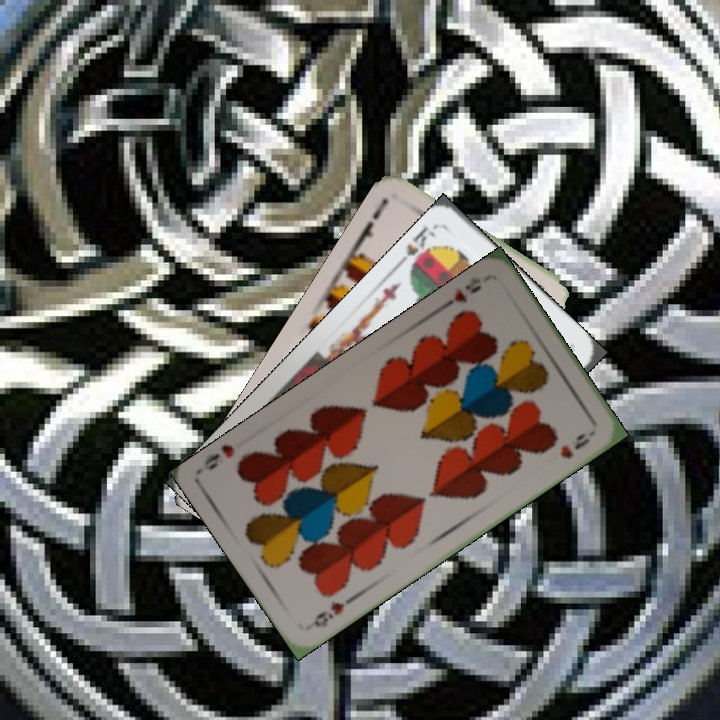E7: (353, 193, 392, 246)
H9: (438, 273, 484, 312), (304, 596, 347, 631)
SK: (393, 222, 441, 277)
